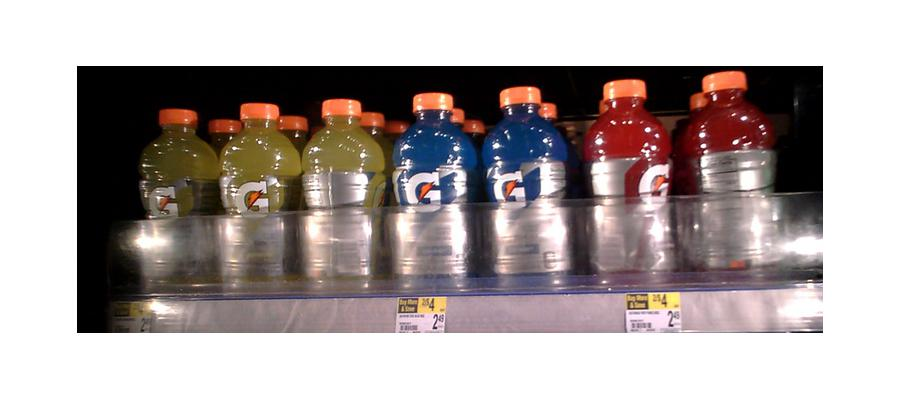bottle: (681, 67, 779, 282), (587, 76, 675, 285), (486, 84, 570, 292), (389, 88, 473, 292), (298, 99, 387, 290), (136, 101, 214, 295), (216, 104, 292, 294)
